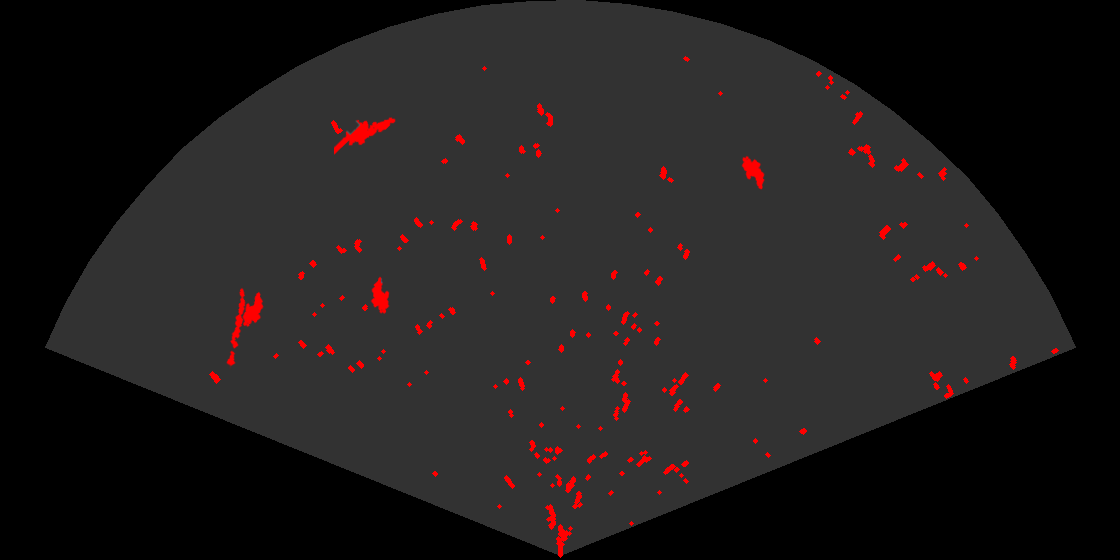AUV: (240, 290, 265, 329), (740, 154, 766, 191), (369, 275, 391, 316)
chain: (225, 286, 247, 370)
frogman: (334, 116, 397, 156)
